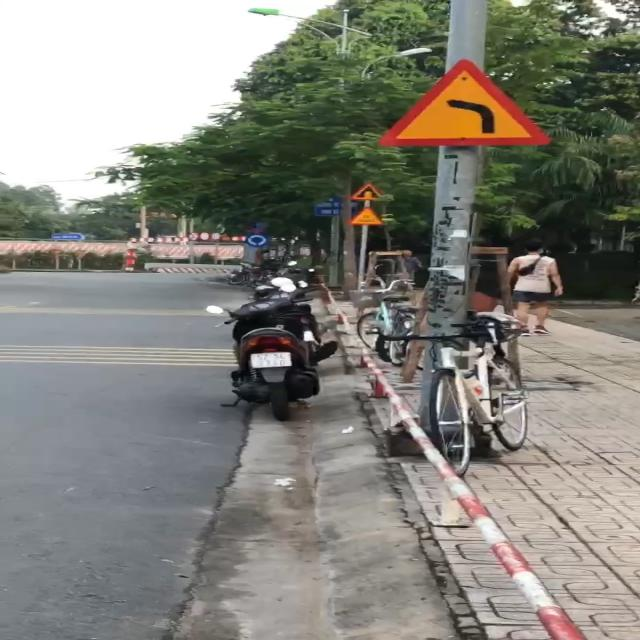Bien bao cho ngoat nguy hiem: (379, 56, 554, 150)
